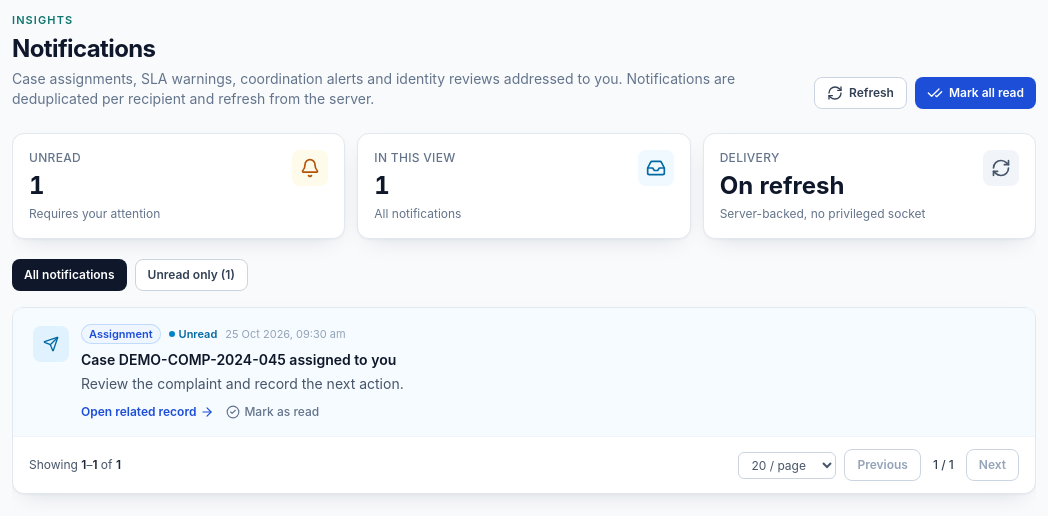
it: Notifications page › loads notifications and marks a single item read
Expected: the text "Case DEMO-COMP-2024-045 assigned to you" is shown, [81,351,396,368]
Expected: the text "Unread" is shown, [29,150,81,164]
Click the button "Mark as read" at {"x": 273, "y": 412}, box [226,404,319,420]
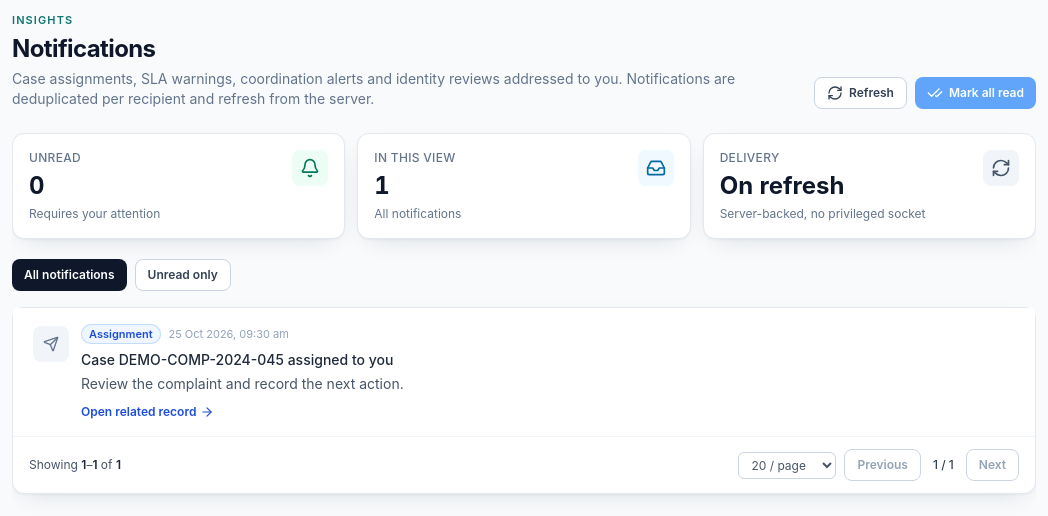
Now the button "Mark as read" is gone
